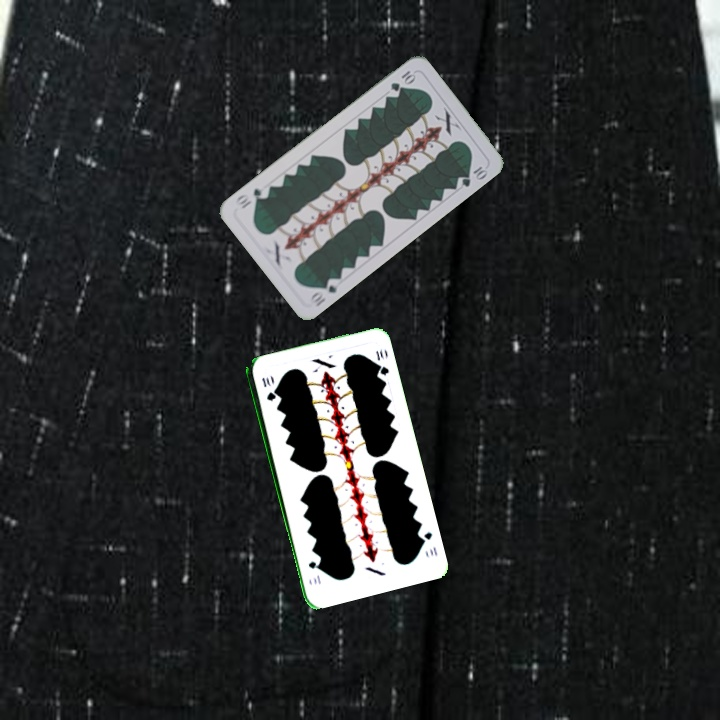G10: (305, 274, 343, 309), (386, 66, 418, 94), (416, 528, 440, 559), (258, 373, 276, 403)
